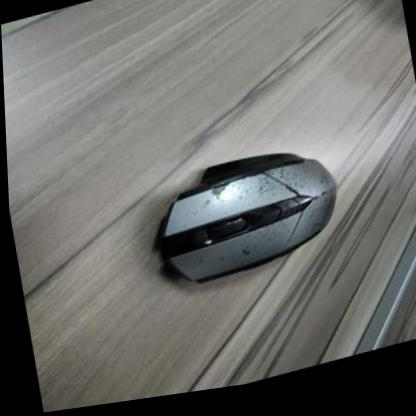mouserotation: (146, 141, 346, 298)
